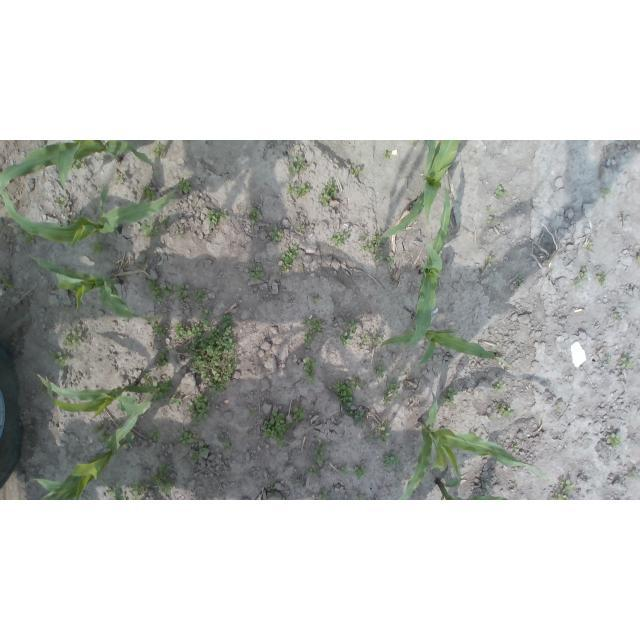Maize: (393, 386, 547, 500), (0, 187, 176, 252), (26, 252, 165, 324), (27, 414, 136, 500), (1, 140, 152, 198), (379, 140, 461, 237), (407, 186, 454, 347), (32, 368, 160, 420), (378, 329, 514, 372), (433, 476, 511, 501)
Weeds: (183, 316, 238, 396), (262, 410, 290, 448), (332, 377, 363, 411), (141, 373, 172, 400), (151, 464, 176, 497), (186, 393, 211, 426), (362, 231, 386, 260), (145, 280, 173, 303), (303, 317, 322, 348), (319, 178, 338, 207), (279, 245, 300, 271), (191, 441, 210, 465), (205, 208, 227, 228), (303, 357, 318, 386), (286, 182, 311, 199), (62, 330, 82, 351), (286, 155, 306, 175), (330, 228, 350, 248), (93, 422, 112, 443), (369, 423, 391, 441), (47, 349, 69, 367), (312, 443, 328, 464), (141, 220, 162, 236), (442, 388, 459, 407), (132, 481, 149, 500), (494, 401, 514, 417), (105, 486, 127, 500), (17, 229, 35, 246), (382, 450, 401, 466), (179, 427, 198, 443), (248, 266, 265, 283), (558, 476, 574, 494), (618, 352, 634, 369), (153, 142, 169, 159), (155, 349, 169, 368), (268, 226, 283, 243), (247, 207, 261, 225), (388, 379, 401, 397), (144, 183, 157, 201), (175, 283, 187, 301), (606, 433, 621, 447), (151, 325, 166, 339), (350, 412, 366, 425), (173, 323, 186, 339), (179, 178, 192, 194), (293, 406, 306, 421), (194, 288, 207, 303), (338, 333, 354, 345), (70, 157, 86, 169), (170, 394, 184, 407), (150, 426, 161, 442), (346, 320, 359, 333), (90, 242, 103, 255), (594, 272, 606, 286), (373, 363, 385, 377), (354, 465, 366, 479), (199, 307, 213, 319), (219, 435, 230, 450), (0, 272, 12, 285), (57, 197, 69, 210), (113, 174, 125, 187), (491, 382, 505, 393), (494, 185, 504, 199), (602, 186, 613, 198), (627, 471, 640, 481), (372, 333, 382, 346), (580, 267, 589, 281), (514, 273, 523, 287), (552, 492, 566, 500), (383, 390, 391, 404), (611, 309, 621, 320), (309, 293, 319, 304), (350, 166, 360, 176), (354, 491, 365, 500), (382, 150, 391, 161), (319, 491, 330, 500), (96, 155, 107, 164), (583, 242, 593, 251), (296, 226, 306, 235), (572, 278, 580, 289), (486, 217, 498, 224), (470, 428, 479, 437), (362, 334, 371, 343), (309, 464, 317, 474), (487, 256, 496, 264), (386, 255, 394, 264), (357, 234, 367, 241), (247, 409, 254, 418), (159, 216, 168, 223), (268, 487, 277, 493), (604, 357, 613, 363), (270, 477, 277, 484), (511, 444, 518, 451), (177, 231, 184, 238), (555, 403, 563, 409), (340, 467, 346, 474), (486, 206, 491, 212), (636, 256, 640, 263), (488, 416, 494, 420), (607, 148, 611, 153), (248, 433, 252, 437), (283, 498, 286, 500)
